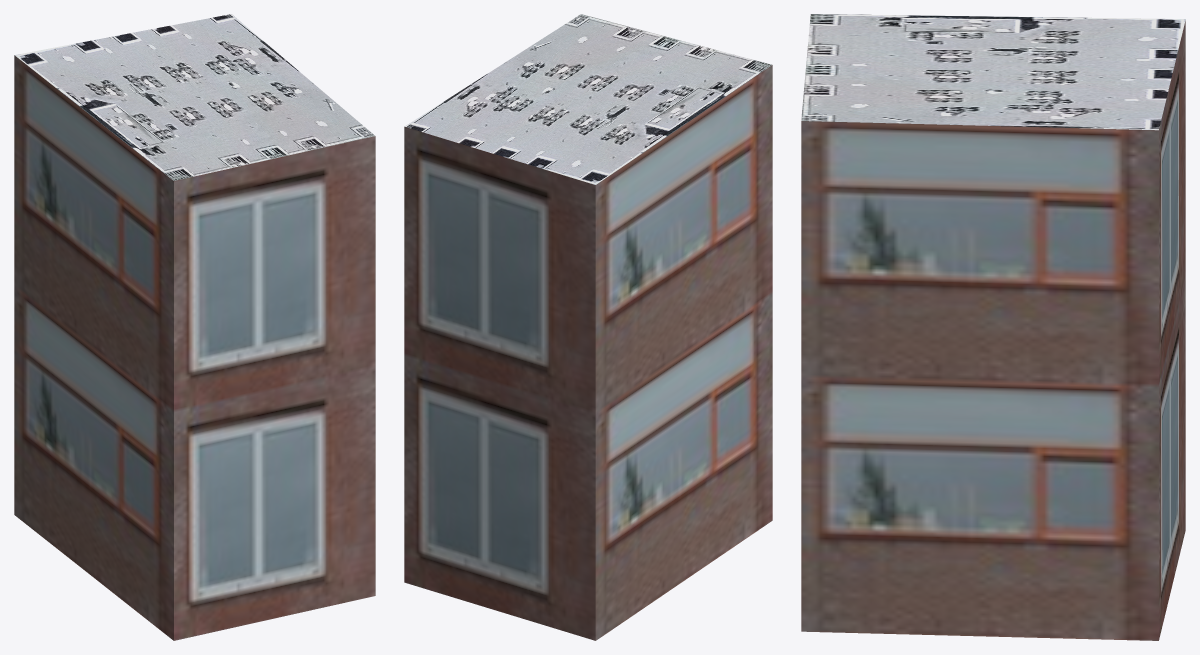
The model's file is ResTex__3054.fbx.
The picture shows the model from 3 angles, left to right: view 1: azimuth 30°, elevation 25°; view 2: azimuth 150°, elevation 25°; view 3: azimuth 270°, elevation 25°; orthographic projection. The views are drawn at different scales.
Visible parts, largest first — view 1: CityEngineMaterial_19_m, CityEngineMaterial_15_m; view 2: CityEngineMaterial_19_m, CityEngineMaterial_15_m; view 3: CityEngineMaterial_19_m, CityEngineMaterial_15_m.
Boxes of the visible parts, bbox=[...] form: CityEngineMaterial_19_m: bbox=[14, 55, 375, 640]; CityEngineMaterial_15_m: bbox=[14, 14, 374, 180]; CityEngineMaterial_19_m: bbox=[404, 65, 772, 640]; CityEngineMaterial_15_m: bbox=[405, 14, 772, 184]; CityEngineMaterial_19_m: bbox=[801, 20, 1185, 640]; CityEngineMaterial_15_m: bbox=[801, 14, 1185, 130].
Size of the model in its own units: 2.93 by 6 by 4.1.
2 materials, 2 textured.
